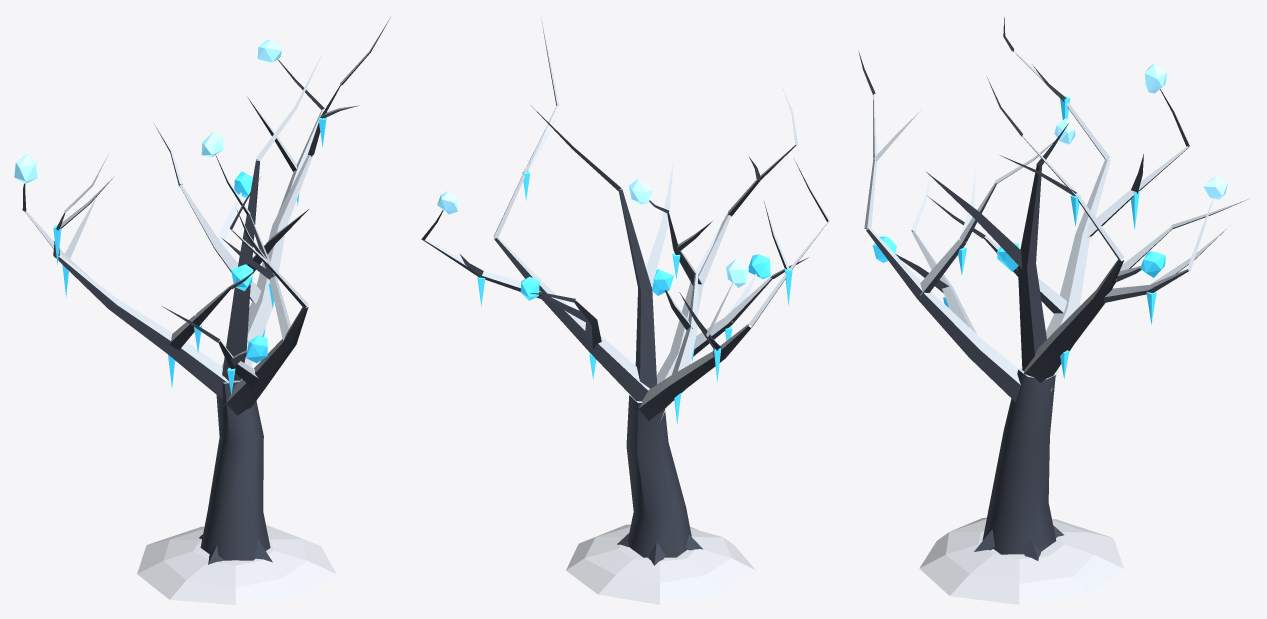
File: frozen_tree.glb
The picture shows the model from 3 angles, left to right: view 1: azimuth 30°, elevation 25°; view 2: azimuth 150°, elevation 25°; view 3: azimuth 270°, elevation 25°; orthographic projection. The views are drawn at different scales.
Visible parts, largest first — view 1: frozen_tree; view 2: frozen_tree; view 3: frozen_tree.
Boxes of the visible parts, <box> form: frozen_tree: <box>14,17,390,604</box>; frozen_tree: <box>421,17,829,604</box>; frozen_tree: <box>858,17,1249,604</box>.
Size of the model in its own units: 2.87 by 4.25 by 2.7.
